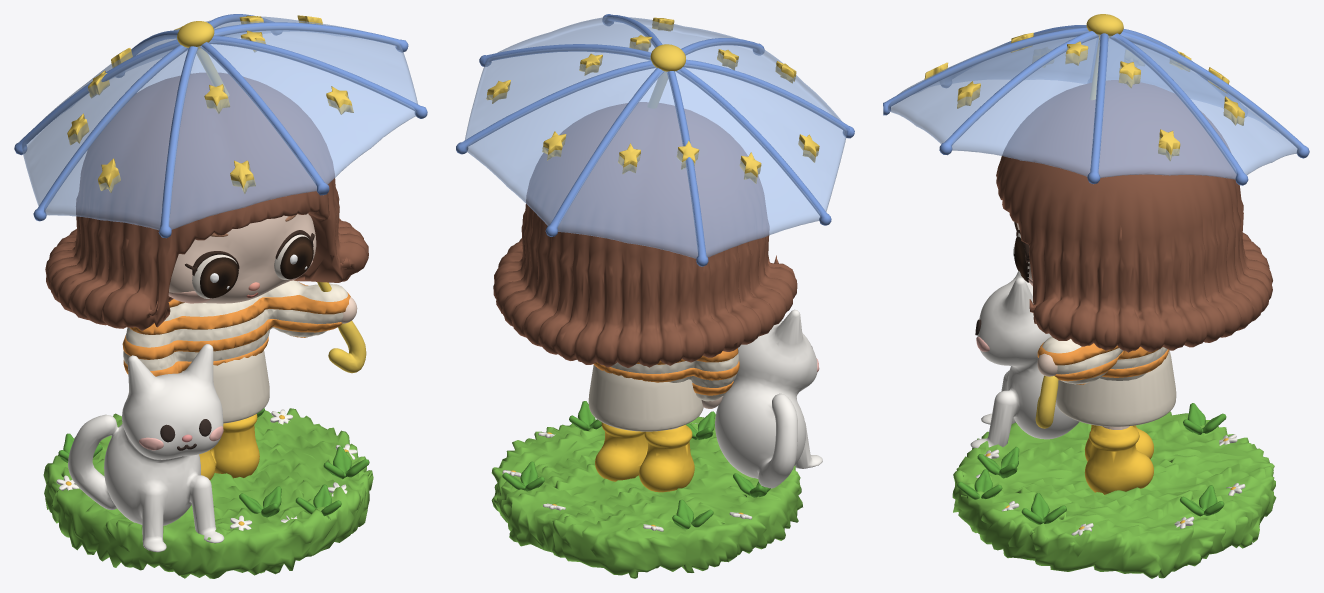
File: sanctuary_roblox.glb
The picture shows the model from 3 angles, left to right: view 1: azimuth 30°, elevation 25°; view 2: azimuth 150°, elevation 25°; view 3: azimuth 270°, elevation 25°; orthographic projection. The views are drawn at different scales.
Parts seen in each view (by area): view 1: Sanctuary_Canopy, Sanctuary_Hair, Sanctuary_Grass, Sanctuary_Cat, Sanctuary_Ribs, Sanctuary_Sweater, Sanctuary_Stripes, Sanctuary_Head, Sanctuary_CanopyStars, Sanctuary_Shorts, Sanctuary_Boots, Sanctuary_Handle (+5 smaller); view 2: Sanctuary_Canopy, Sanctuary_Hair, Sanctuary_Grass, Sanctuary_Cat, Sanctuary_Ribs, Sanctuary_Shorts, Sanctuary_Boots, Sanctuary_CanopyStars, Sanctuary_Leaves, Sanctuary_Stripes, Sanctuary_Sweater, Sanctuary_Handle; view 3: Sanctuary_Hair, Sanctuary_Canopy, Sanctuary_Grass, Sanctuary_Ribs, Sanctuary_Cat, Sanctuary_Shorts, Sanctuary_Boots, Sanctuary_Leaves, Sanctuary_CanopyStars, Sanctuary_Stripes, Sanctuary_Sweater, Sanctuary_Handle (+1 smaller).
Boxes of the visible parts, x1,y1,x2,y2 form: Sanctuary_Canopy: (21, 16, 417, 230); Sanctuary_Hair: (45, 73, 368, 330); Sanctuary_Grass: (43, 408, 373, 578); Sanctuary_Cat: (68, 344, 224, 552); Sanctuary_Ribs: (14, 14, 427, 238); Sanctuary_Sweater: (123, 280, 347, 371); Sanctuary_Stripes: (122, 282, 350, 376); Sanctuary_Head: (169, 213, 316, 303); Sanctuary_CanopyStars: (67, 15, 353, 193); Sanctuary_Shorts: (183, 350, 269, 423); Sanctuary_Boots: (199, 414, 259, 479); Sanctuary_Handle: (177, 21, 366, 373); Sanctuary_Canopy: (464, 16, 847, 258); Sanctuary_Hair: (493, 102, 797, 367); Sanctuary_Grass: (491, 414, 802, 578); Sanctuary_Cat: (715, 309, 822, 488); Sanctuary_Ribs: (456, 14, 854, 266); Sanctuary_Shorts: (588, 365, 703, 431); Sanctuary_Boots: (595, 422, 694, 492); Sanctuary_CanopyStars: (486, 17, 819, 183); Sanctuary_Leaves: (502, 401, 770, 529); Sanctuary_Stripes: (593, 348, 739, 395); Sanctuary_Sweater: (610, 353, 738, 401); Sanctuary_Handle: (647, 44, 685, 108); Sanctuary_Hair: (996, 80, 1272, 352); Sanctuary_Canopy: (888, 27, 1300, 179); Sanctuary_Grass: (952, 411, 1276, 578); Sanctuary_Ribs: (883, 25, 1309, 185); Sanctuary_Cat: (970, 271, 1079, 448); Sanctuary_Shorts: (1056, 350, 1176, 426); Sanctuary_Boots: (1084, 425, 1153, 494); Sanctuary_Leaves: (957, 403, 1226, 524); Sanctuary_CanopyStars: (924, 32, 1244, 160); Sanctuary_Stripes: (1037, 342, 1169, 384); Sanctuary_Sweater: (1042, 336, 1167, 384); Sanctuary_Handle: (1035, 14, 1123, 428).
Size of the model in its own units: 2.8 by 3.59 by 2.81.
27 materials, 27 textured.
